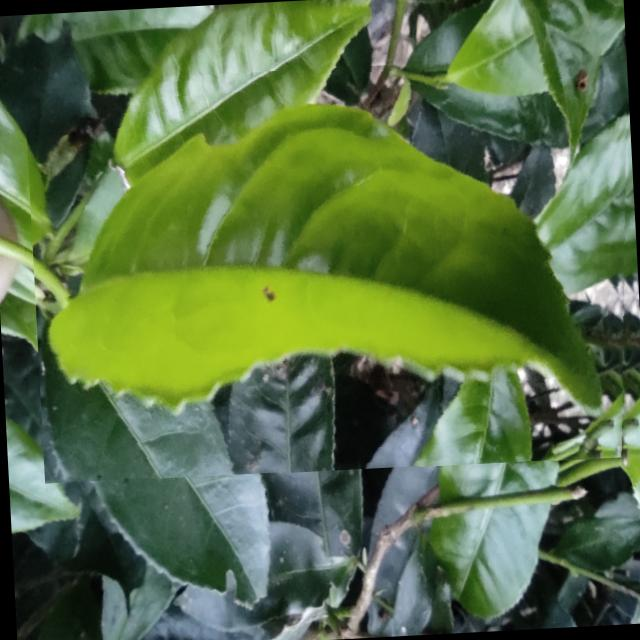Category C(4-7 days): (23, 52, 640, 487)
